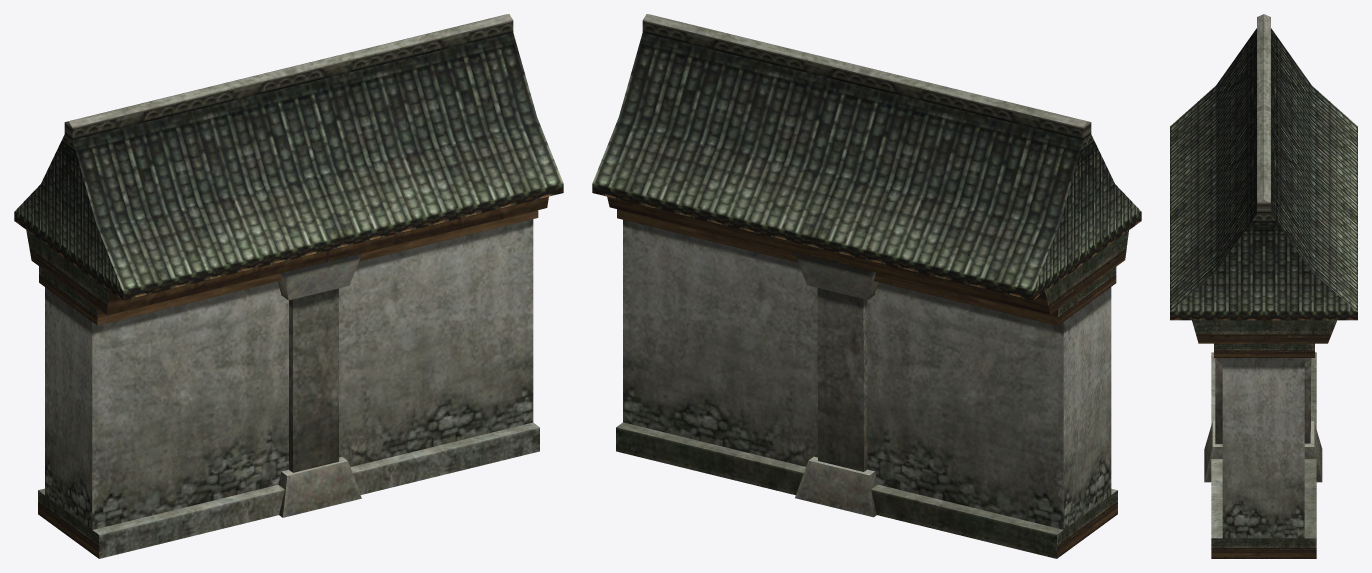
Rendered from c1-038-wall-lin.fbx.
The picture shows the model from 3 angles, left to right: view 1: azimuth 30°, elevation 25°; view 2: azimuth 150°, elevation 25°; view 3: azimuth 270°, elevation 25°; orthographic projection. The views are drawn at different scales.
Parts seen in each view (by area): view 1: b1-038-wall-lin; view 2: b1-038-wall-lin; view 3: b1-038-wall-lin.
Part boxes in pixels (box(x1,y1,x2,y2)): b1-038-wall-lin: box(14, 14, 563, 558); b1-038-wall-lin: box(592, 14, 1141, 558); b1-038-wall-lin: box(1170, 14, 1357, 558).
Size of the model in its own units: 5 by 4.5 by 2.13.
